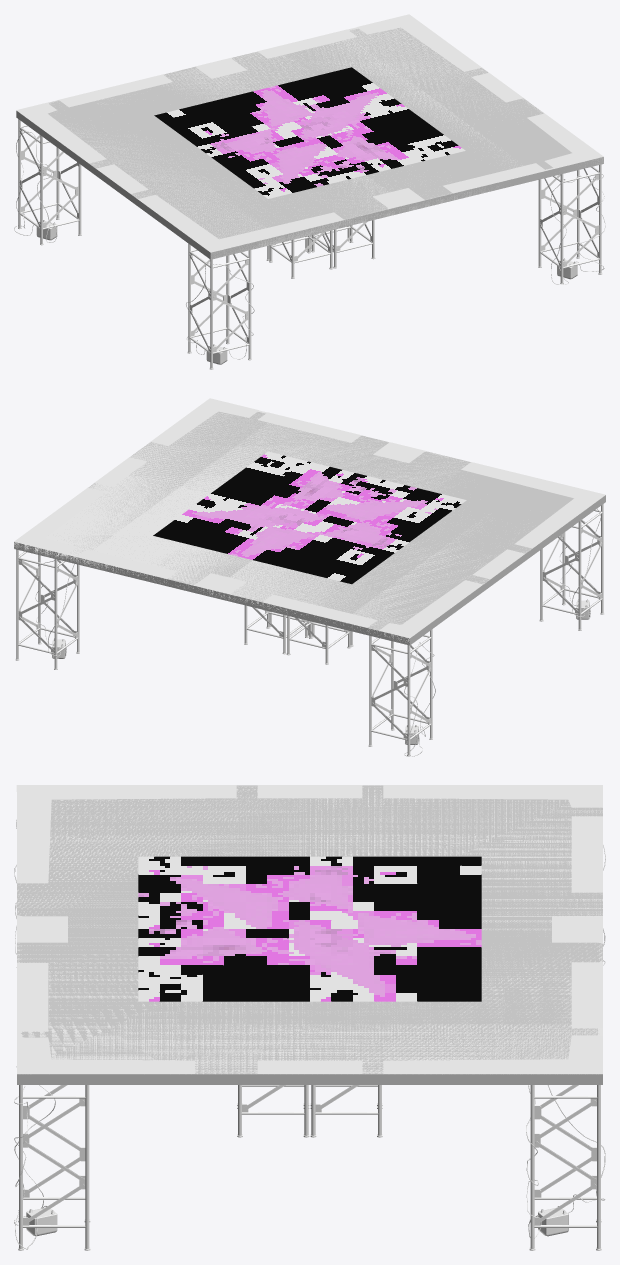
File: objects_un_base_stage01_fairy.gltf
The picture shows the model from 3 angles, top to bottom: view 1: azimuth 30°, elevation 25°; view 2: azimuth 150°, elevation 25°; view 3: azimuth 270°, elevation 25°; orthographic projection. The views are drawn at different scales.
Parts seen in each view (by area): view 1: um_objects_un_base_stage01_fairy_model_lod0Shape:objects_un_ (×7), um_objects_un_base_stage01_fairy_model_lod1Shape:objects_un_ (×2), um_objects_un_base_stage01_fairy_model_lod2Shape:objects_un_; view 2: um_objects_un_base_stage01_fairy_model_lod0Shape:objects_un_ (×7), um_objects_un_base_stage01_fairy_model_lod1Shape:objects_un_ (×2), um_objects_un_base_stage01_fairy_model_lod2Shape:objects_un_; view 3: um_objects_un_base_stage01_fairy_model_lod0Shape:objects_un_ (×7), um_objects_un_base_stage01_fairy_model_lod1Shape:objects_un_ (×2), um_objects_un_base_stage01_fairy_model_lod2Shape:objects_un_.
Part boxes in pixels (x1,y1,x2,y2): um_objects_un_base_stage01_fairy_model_lod0Shape:objects_un_ (×7): [14, 15, 605, 369]; um_objects_un_base_stage01_fairy_model_lod1Shape:objects_un_ (×2): [16, 14, 603, 252]; um_objects_un_base_stage01_fairy_model_lod2Shape:objects_un_: [18, 52, 603, 259]; um_objects_un_base_stage01_fairy_model_lod0Shape:objects_un_ (×7): [14, 399, 605, 756]; um_objects_un_base_stage01_fairy_model_lod1Shape:objects_un_ (×2): [14, 398, 605, 637]; um_objects_un_base_stage01_fairy_model_lod2Shape:objects_un_: [17, 439, 605, 643]; um_objects_un_base_stage01_fairy_model_lod0Shape:objects_un_ (×7): [14, 785, 605, 1250]; um_objects_un_base_stage01_fairy_model_lod1Shape:objects_un_ (×2): [16, 785, 602, 1073]; um_objects_un_base_stage01_fairy_model_lod2Shape:objects_un_: [17, 785, 602, 1074].
Size of the model in its own units: 17.84 by 5.02 by 15.16.
Materials: 8 (1 with a texture image).
